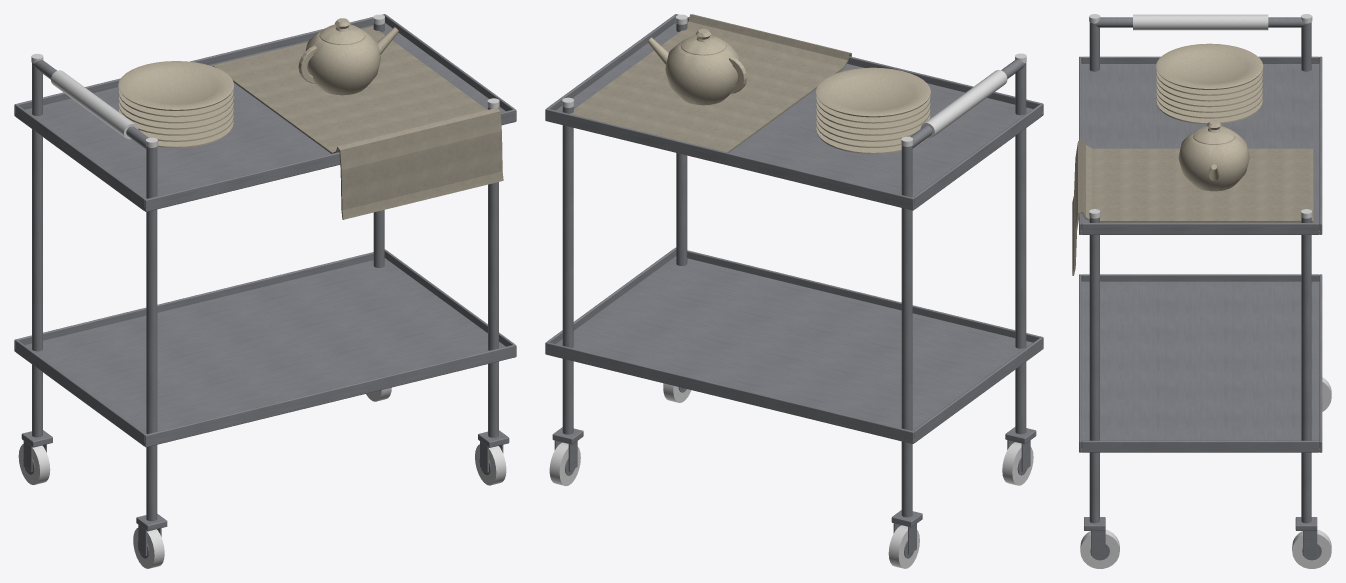
Rendered from service_trolley.glb.
3 renders of one model, left to right at view 1: azimuth 30°, elevation 25°; view 2: azimuth 150°, elevation 25°; view 3: azimuth 270°, elevation 25°, orthographic. The views are drawn at different scales.
Parts seen in each view (by area): view 1: tray_low_steel_brushed_0, cloth_fabric_oat_0, tray_top_steel_brushed_0, tray_low_steel_brushed_1, plates_porcelain_6, frame_steel_brushed_4, frame_steel_brushed_6, teapot_porcelain_0, tray_low_steel_brushed_2, tray_top_steel_brushed_1, frame_steel_brushed_0, tray_low_steel_brushed_4 (+14 smaller); view 2: tray_low_steel_brushed_0, cloth_fabric_oat_0, tray_top_steel_brushed_0, tray_low_steel_brushed_2, tray_top_steel_brushed_2, plates_porcelain_6, frame_steel_brushed_6, frame_steel_brushed_4, frame_steel_brushed_2, teapot_porcelain_0, tray_low_steel_brushed_1, tray_low_steel_brushed_4 (+14 smaller); view 3: tray_low_steel_brushed_0, cloth_fabric_oat_0, tray_top_steel_brushed_0, plates_porcelain_6, frame_steel_brushed_2, frame_steel_brushed_0, tray_low_steel_brushed_3, teapot_porcelain_0, tray_top_steel_brushed_3, frame_rubber_9, tray_low_steel_brushed_4, tray_top_steel_brushed_4 (+17 smaller).
Boxes of the visible parts, x1=… form: tray_low_steel_brushed_0: x1=15, y1=258, x2=505, y2=445; cloth_fabric_oat_0: x1=213, y1=26, x2=503, y2=219; tray_top_steel_brushed_0: x1=15, y1=23, x2=505, y2=210; tray_low_steel_brushed_1: x1=144, y1=344, x2=516, y2=447; plates_porcelain_6: x1=118, y1=61, x2=233, y2=110; frame_steel_brushed_4: x1=146, y1=147, x2=157, y2=521; frame_steel_brushed_6: x1=32, y1=63, x2=42, y2=437; teapot_porcelain_0: x1=305, y1=30, x2=380, y2=95; tray_low_steel_brushed_2: x1=14, y1=249, x2=385, y2=351; tray_top_steel_brushed_1: x1=144, y1=109, x2=516, y2=211; frame_steel_brushed_0: x1=488, y1=107, x2=498, y2=437; tray_low_steel_brushed_4: x1=16, y1=340, x2=145, y2=446; tray_low_steel_brushed_0: x1=547, y1=256, x2=1042, y2=442; cloth_fabric_oat_0: x1=570, y1=14, x2=851, y2=152; tray_top_steel_brushed_0: x1=546, y1=23, x2=1042, y2=208; tray_low_steel_brushed_2: x1=545, y1=342, x2=914, y2=443; tray_top_steel_brushed_2: x1=545, y1=108, x2=914, y2=210; plates_porcelain_6: x1=816, y1=67, x2=930, y2=117; frame_steel_brushed_6: x1=901, y1=145, x2=912, y2=517; frame_steel_brushed_4: x1=1015, y1=62, x2=1026, y2=434; frame_steel_brushed_2: x1=562, y1=106, x2=573, y2=434; teapot_porcelain_0: x1=665, y1=40, x2=739, y2=105; tray_low_steel_brushed_1: x1=674, y1=247, x2=1043, y2=349; tray_low_steel_brushed_4: x1=913, y1=338, x2=1041, y2=442; tray_low_steel_brushed_0: x1=1080, y1=281, x2=1320, y2=452; cloth_fabric_oat_0: x1=1072, y1=139, x2=1313, y2=275; tray_top_steel_brushed_0: x1=1080, y1=63, x2=1320, y2=234; plates_porcelain_6: x1=1156, y1=43, x2=1263, y2=89; frame_steel_brushed_2: x1=1301, y1=217, x2=1311, y2=523; frame_steel_brushed_0: x1=1089, y1=217, x2=1099, y2=523; tray_low_steel_brushed_3: x1=1081, y1=440, x2=1319, y2=452; teapot_porcelain_0: x1=1178, y1=131, x2=1249, y2=191; tray_top_steel_brushed_3: x1=1081, y1=223, x2=1319, y2=234; frame_rubber_9: x1=1133, y1=14, x2=1268, y2=30; tray_low_steel_brushed_4: x1=1081, y1=274, x2=1319, y2=281; tray_top_steel_brushed_4: x1=1081, y1=56, x2=1319, y2=63.
Size of what is drawn, in the model's own units: 0.88 by 0.9939 by 0.576.
5 materials, 5 textured.
